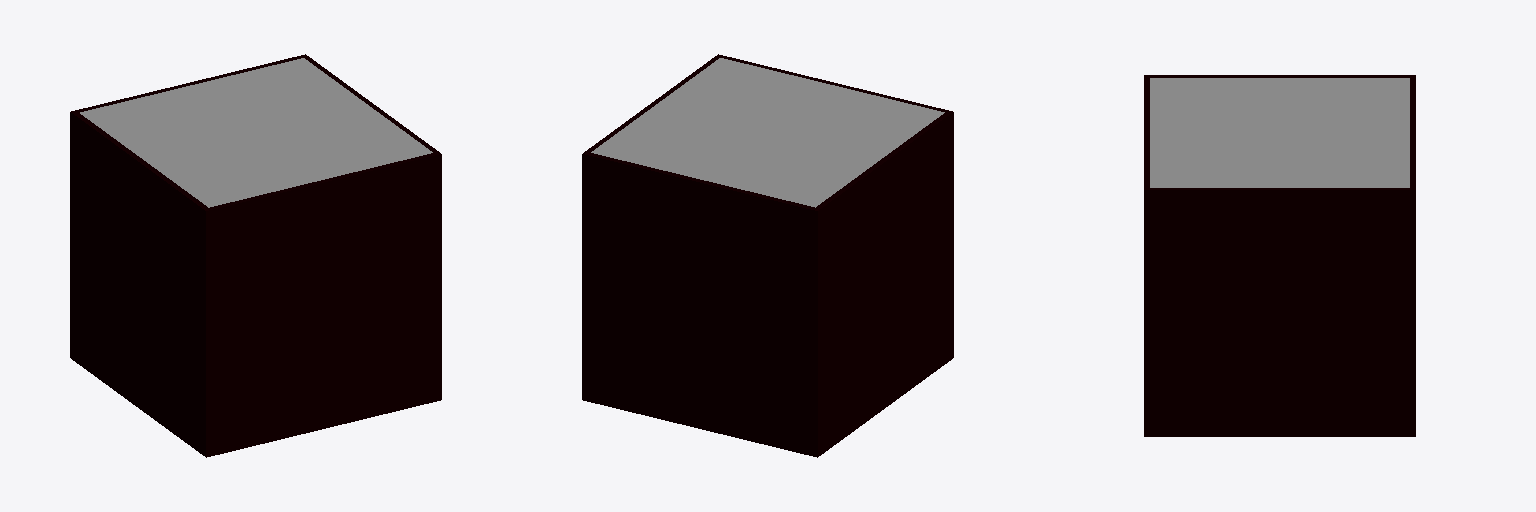
3 views of the same model, side by side, from view 1: azimuth 30°, elevation 25°; view 2: azimuth 150°, elevation 25°; view 3: azimuth 270°, elevation 25° (orthographic).
Visible parts, largest first — view 1: Cube; view 2: Cube; view 3: Cube.
Part boxes in pixels (x1,y1,x2,y2): Cube: (70,54,441,457); Cube: (582,54,953,457); Cube: (1144,75,1415,436).
Size of the model in its own units: 2 by 2 by 2.
1 materials, 1 textured.